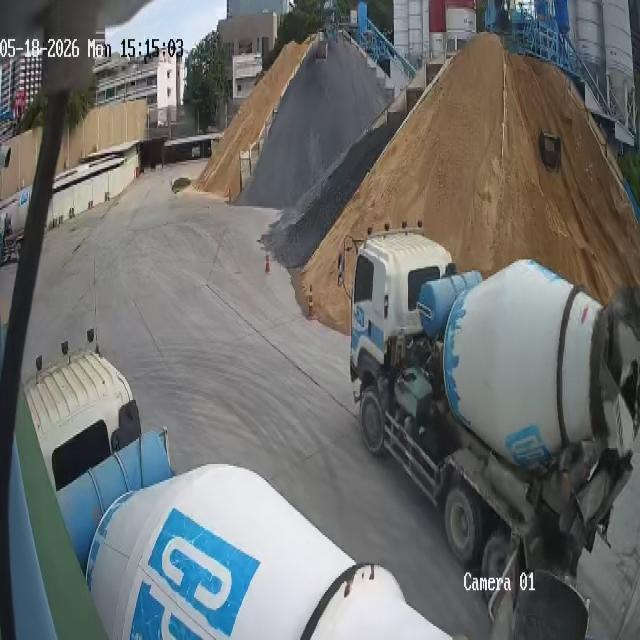cement_mixer_truck: (23, 341, 465, 638), (338, 220, 639, 597), (0, 185, 31, 261)
